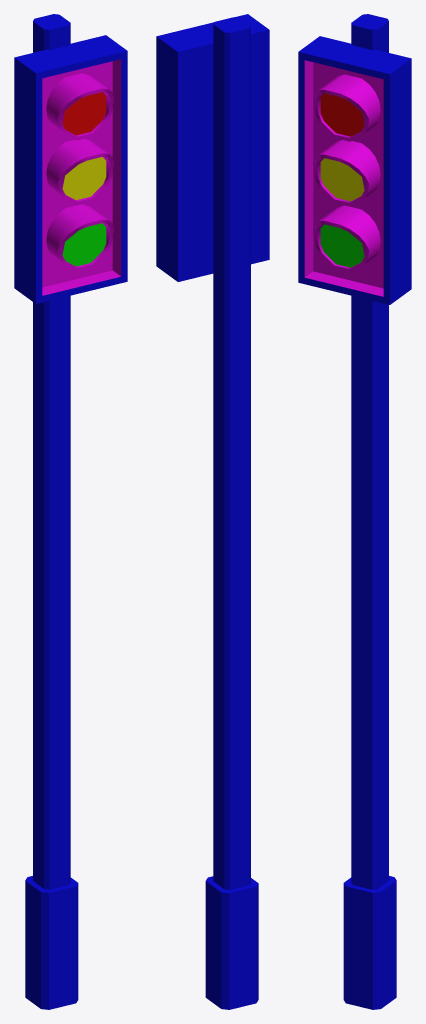
File: TrafficLightsA1.fbx
3 renders of one model, left to right at view 1: azimuth 30°, elevation 25°; view 2: azimuth 210°, elevation 25°; view 3: azimuth 330°, elevation 25°, orthographic.
Visible parts, largest first — view 1: TrafficLightsA1; view 2: TrafficLightsA1; view 3: TrafficLightsA1.
Boxes of the visible parts, box(x1,y1,x2,y2) form: TrafficLightsA1: box(14, 14, 127, 1009); TrafficLightsA1: box(156, 14, 269, 1009); TrafficLightsA1: box(298, 14, 411, 1009).
Bounding box in the file's own units: 40.57 × 413 × 39.2.
